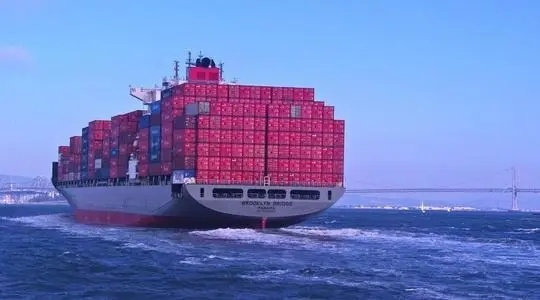Cargoship: (50, 50, 349, 223)
